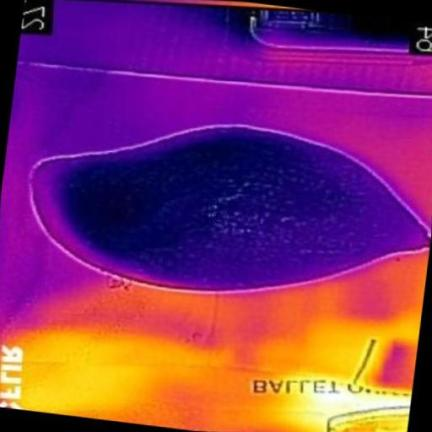mango: (33, 126, 431, 290)
